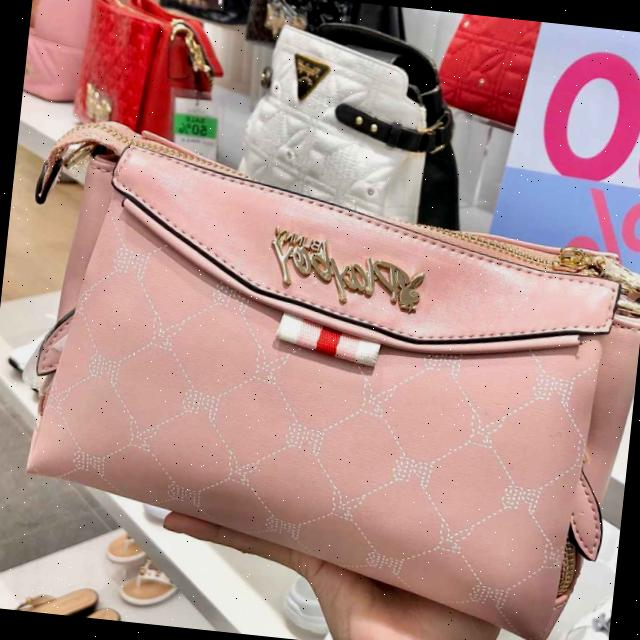Handbag: (0, 104, 640, 640)
